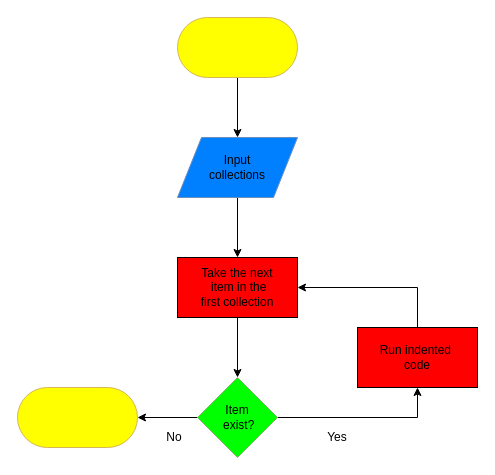
Image size: 495x475. Some labels were removed from this diagram. The shapes that lost their labels are listed below. From the top down, each one's box as (x1, y1, x2, y2) in pixels, then its label:
(176, 16, 298, 78): Start
(16, 386, 138, 448): End
